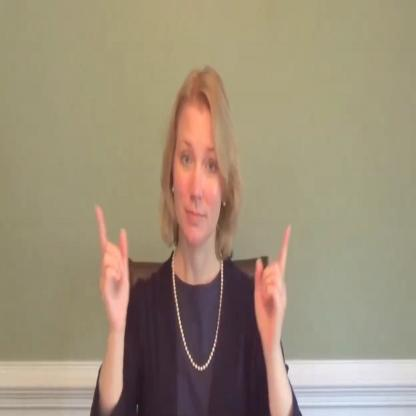NiceToMeetYou: (95, 62, 300, 416)
